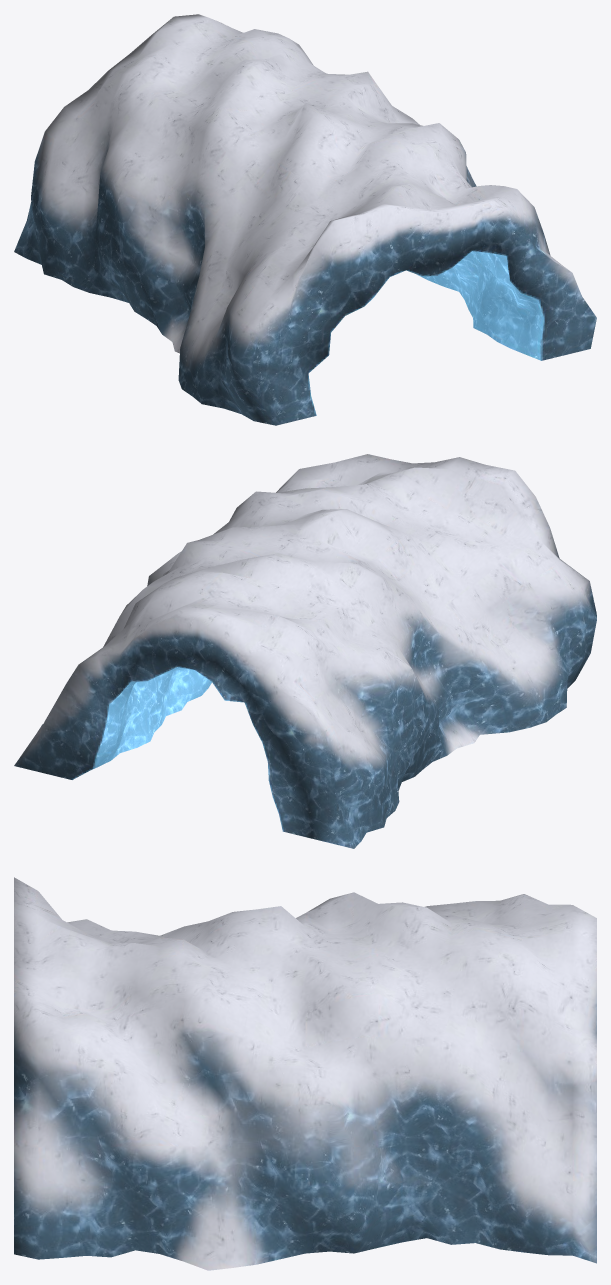
Rendered from ice_cave.glb.
The picture shows the model from 3 angles, top to bottom: view 1: azimuth 30°, elevation 25°; view 2: azimuth 150°, elevation 25°; view 3: azimuth 270°, elevation 25°; orthographic projection. The views are drawn at different scales.
Visible parts, largest first — view 1: ice_cave; view 2: ice_cave; view 3: ice_cave.
Boxes of the visible parts, bbox=[...] form: ice_cave: bbox=[14, 14, 596, 425]; ice_cave: bbox=[14, 454, 596, 848]; ice_cave: bbox=[14, 877, 596, 1270].
Bounding box in the file's own units: 21.47 × 11.21 × 24.
1 material, 1 textured.
